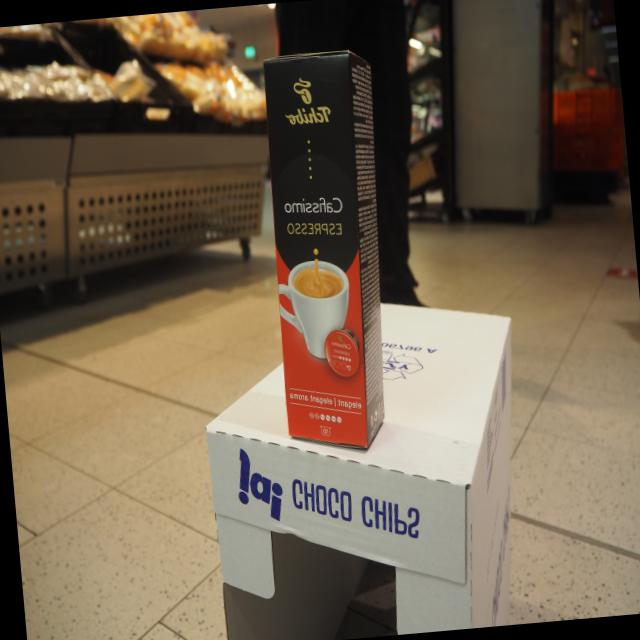Simo Es Elegant: (259, 42, 394, 456)
